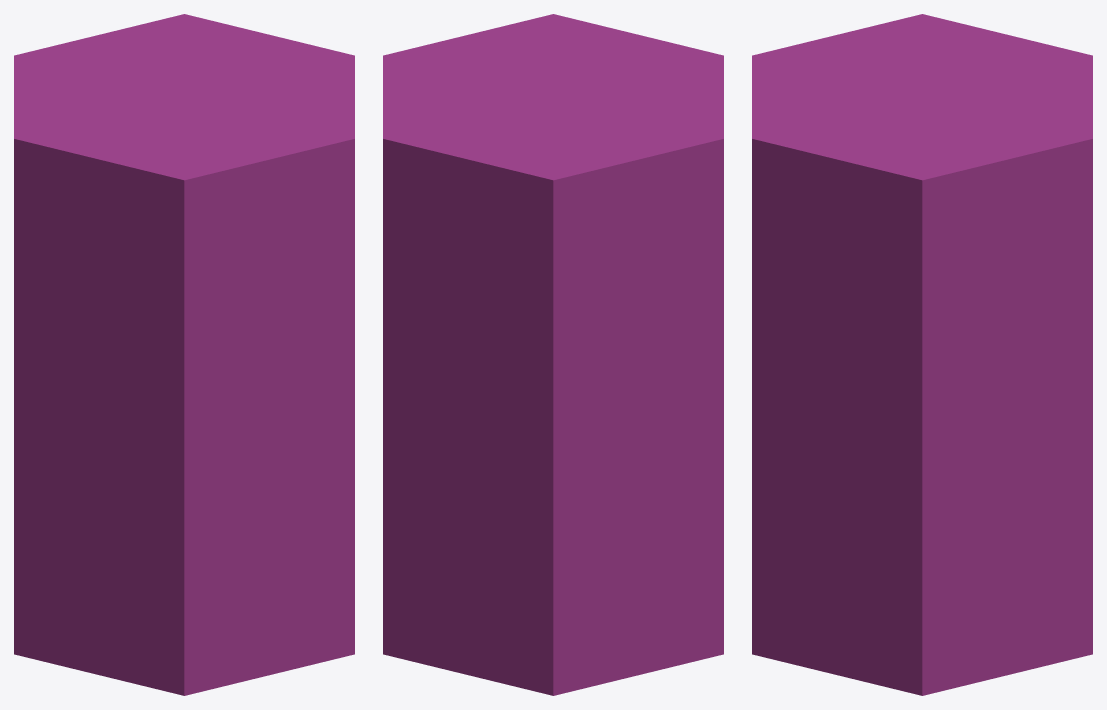
File: SM_Veh_War_Balloon_01_Bomb_R_Collision.fbx
3 renders of one model, left to right at view 1: azimuth 30°, elevation 25°; view 2: azimuth 150°, elevation 25°; view 3: azimuth 270°, elevation 25°, orthographic.
Visible parts, largest first — view 1: SM_Veh_War_Balloon_01_Bomb_R_Collision; view 2: SM_Veh_War_Balloon_01_Bomb_R_Collision; view 3: SM_Veh_War_Balloon_01_Bomb_R_Collision.
Boxes of the visible parts, <box> form: SM_Veh_War_Balloon_01_Bomb_R_Collision: <box>14,14,354,695</box>; SM_Veh_War_Balloon_01_Bomb_R_Collision: <box>383,14,723,695</box>; SM_Veh_War_Balloon_01_Bomb_R_Collision: <box>752,14,1092,695</box>.
Bounding box in the file's own units: 82.04 × 119 × 71.05.
